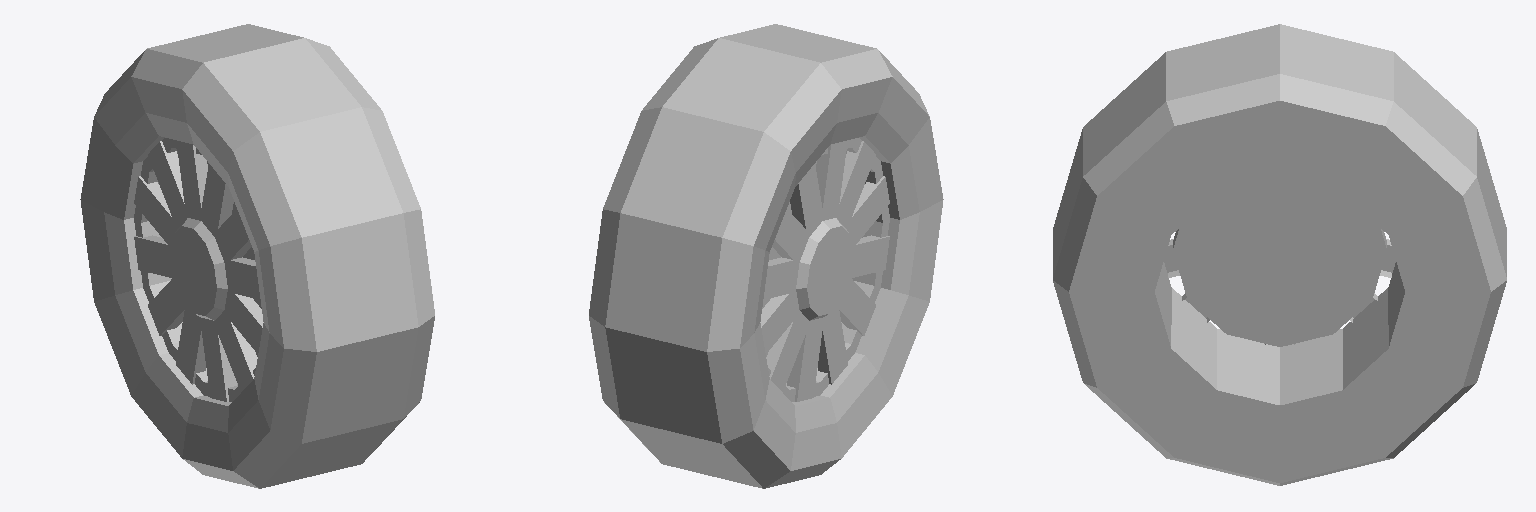
File: police_car_wheel.obj
3 views of the same model, side by side, from view 1: azimuth 30°, elevation 25°; view 2: azimuth 150°, elevation 25°; view 3: azimuth 270°, elevation 25° (orthographic).
Visible parts, largest first — view 1: SM_Veh_Car_Police_Wheel_fr_Mesh.004; view 2: SM_Veh_Car_Police_Wheel_fr_Mesh.004; view 3: SM_Veh_Car_Police_Wheel_fr_Mesh.004.
Part boxes in pixels (bbox=[...]): SM_Veh_Car_Police_Wheel_fr_Mesh.004: bbox=[80, 24, 434, 488]; SM_Veh_Car_Police_Wheel_fr_Mesh.004: bbox=[589, 24, 943, 488]; SM_Veh_Car_Police_Wheel_fr_Mesh.004: bbox=[1053, 24, 1506, 485].
Size of the model in its own units: 0.2707 by 0.7229 by 0.7229.